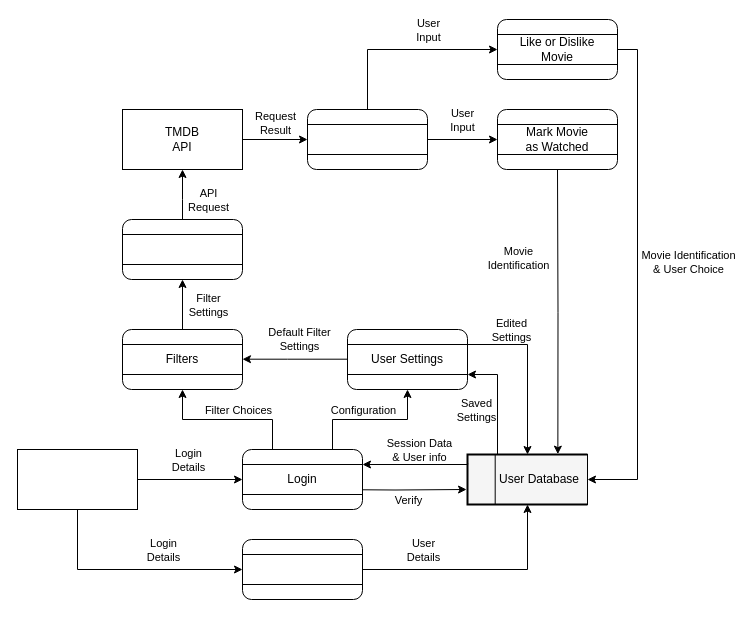
Image size: 752x617. Some labels were removed from this diagram. Each missing label, with the centre of its shape:
"Movie Details" belongs at [367,139].
"MovieMaestro User" belongs at [77,479].
"Register User" belongs at [302,569].
"Search Movie" belongs at [182,249].
